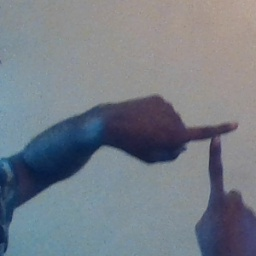T: (163, 97, 254, 214)
